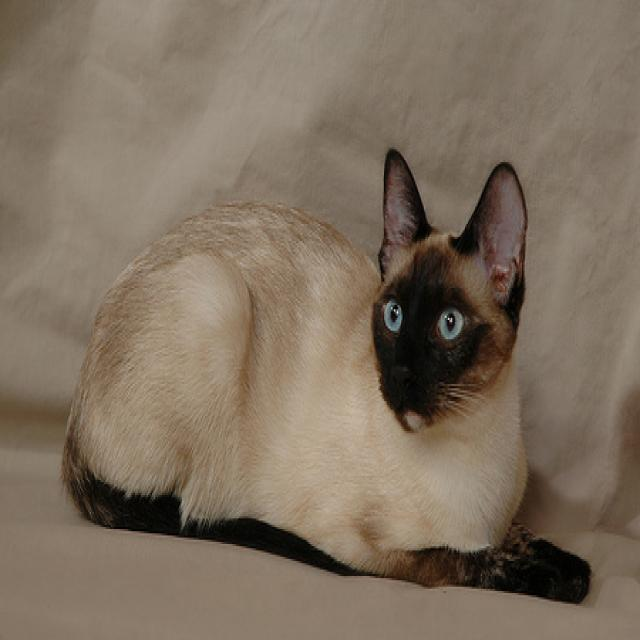Siamese: (56, 142, 597, 613)
